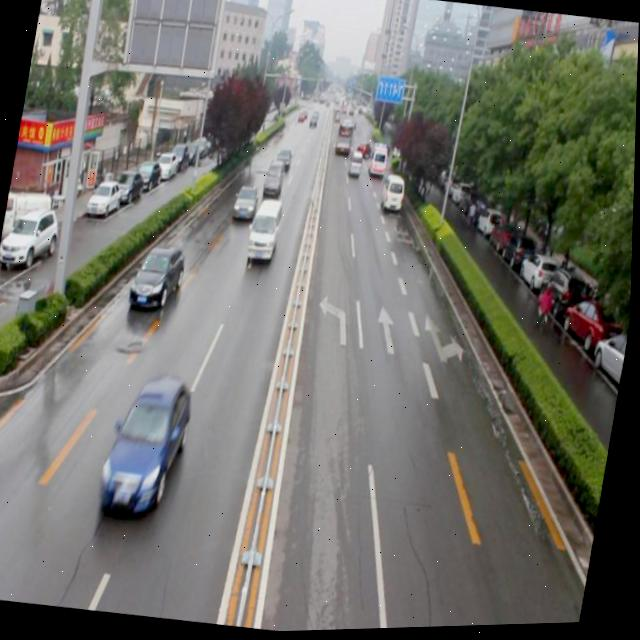car: (95, 367, 203, 525), (129, 240, 192, 315), (233, 184, 261, 220), (275, 148, 294, 173)
truck: (243, 197, 287, 265), (378, 173, 408, 217), (261, 159, 288, 201), (368, 142, 390, 180), (348, 152, 364, 178)
